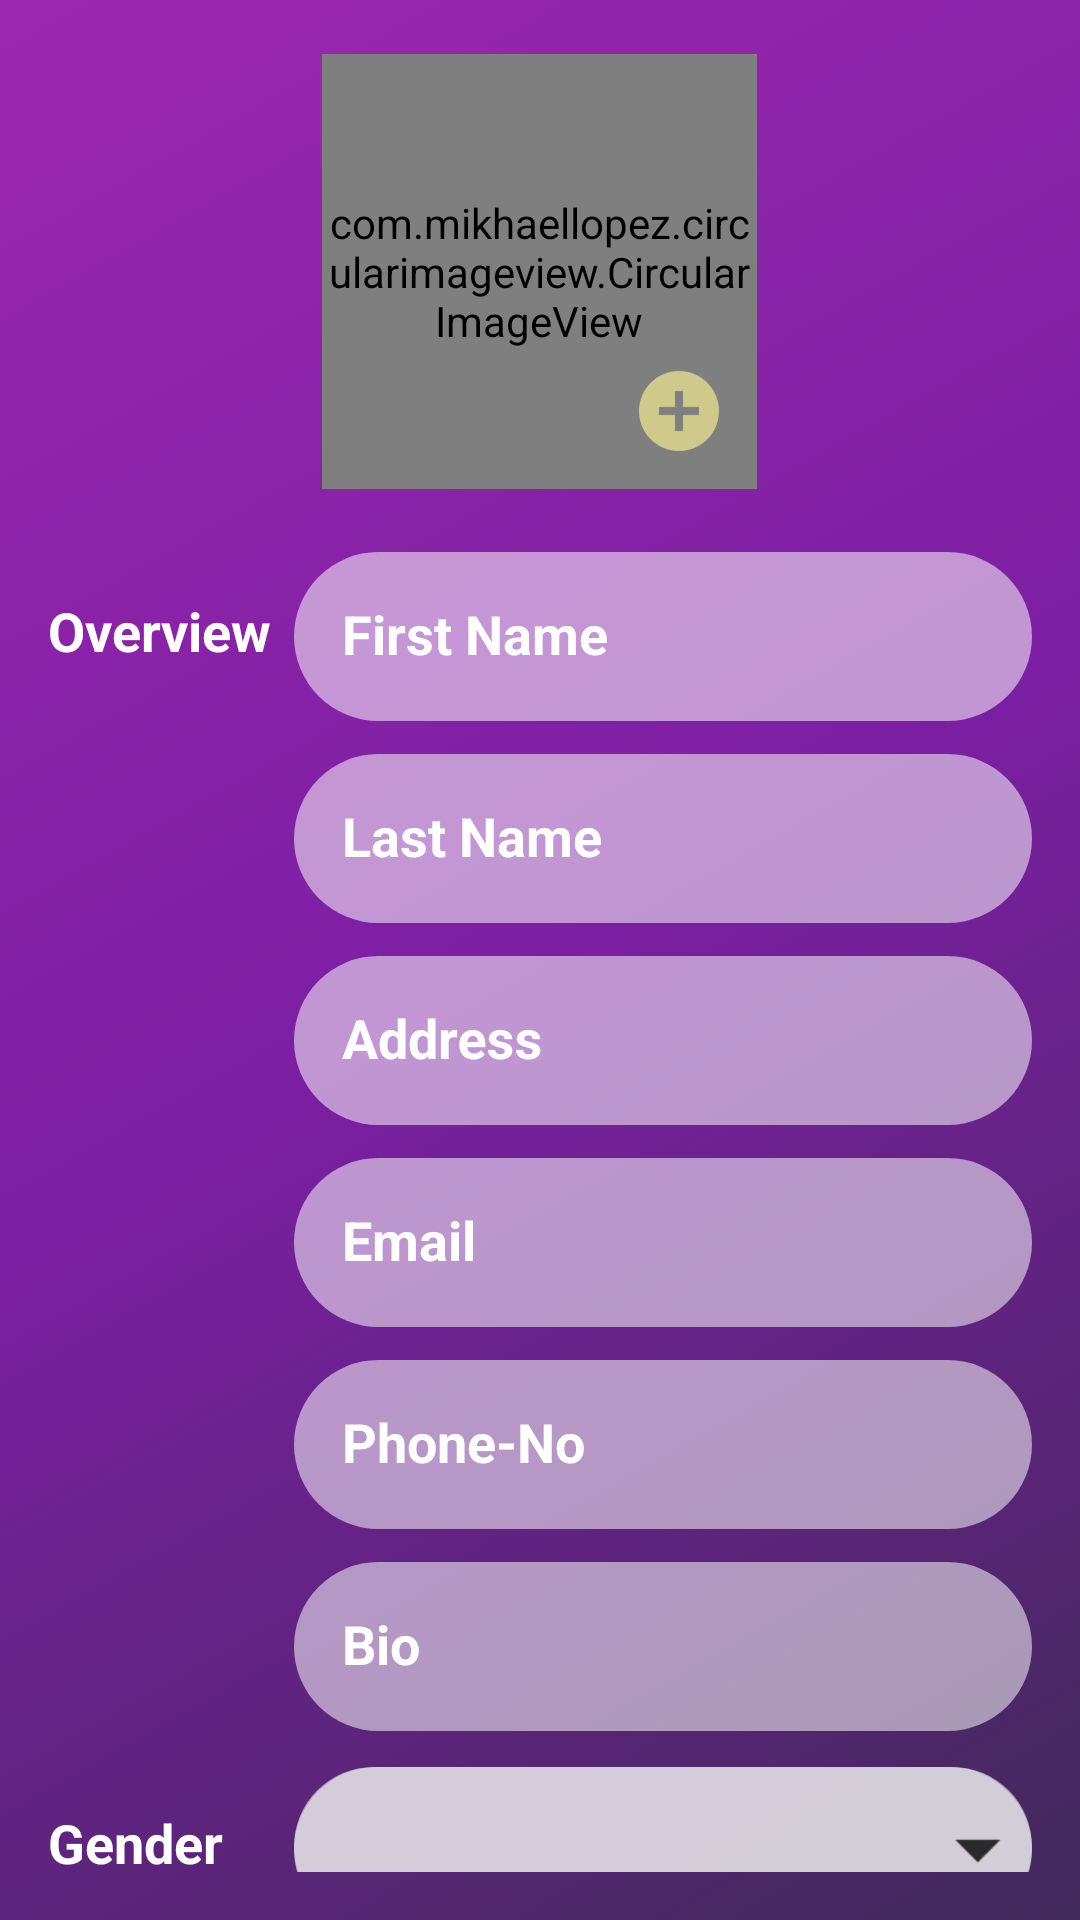

Icon bounding boxes for this 1080*1920 phone screenshot, format {"x1": x1, "y1": y1, "x2": x2, "y2": y2}:
add photo: {"x1": 639, "y1": 371, "x2": 719, "y2": 451}
